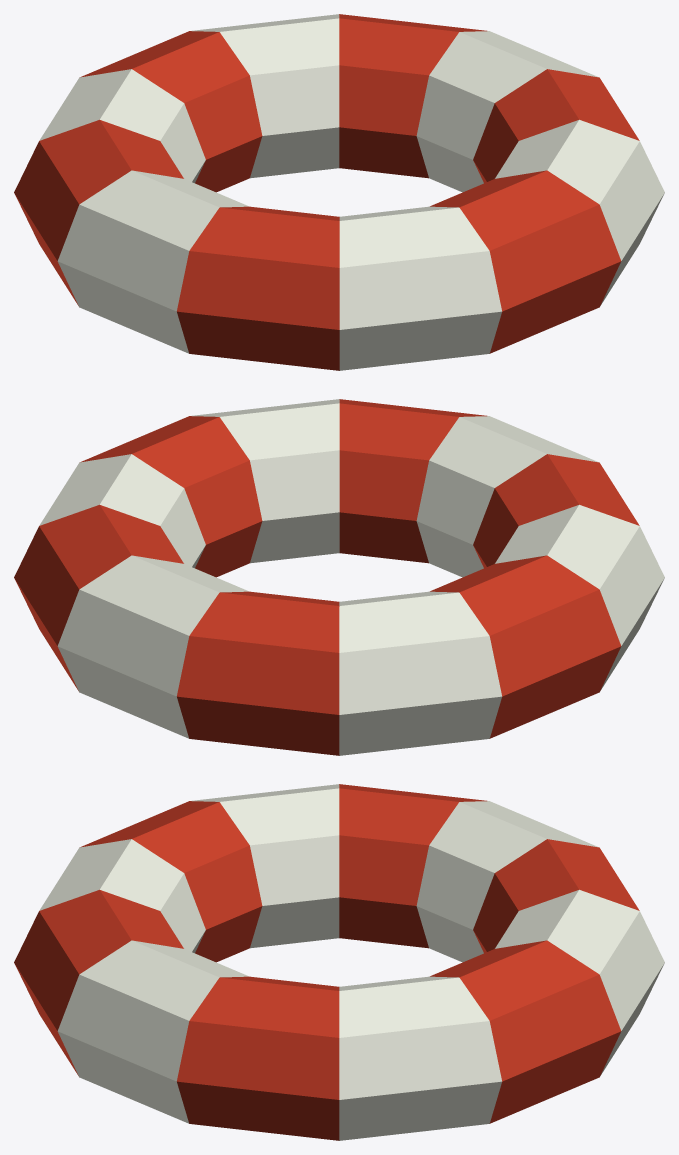
File: SwimmingRing_B.fbx
3 renders of one model, top to bottom at view 1: azimuth 30°, elevation 25°; view 2: azimuth 150°, elevation 25°; view 3: azimuth 270°, elevation 25°, orthographic.
Visible parts, largest first — view 1: SwimmingRing_B; view 2: SwimmingRing_B; view 3: SwimmingRing_B.
Boxes of the visible parts, bbox=[...] form: SwimmingRing_B: bbox=[14, 14, 664, 370]; SwimmingRing_B: bbox=[14, 399, 664, 755]; SwimmingRing_B: bbox=[14, 784, 664, 1140].
Size of the model in its own units: 60 by 14.8 by 60.
